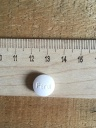Parol: (32, 73, 55, 97)
